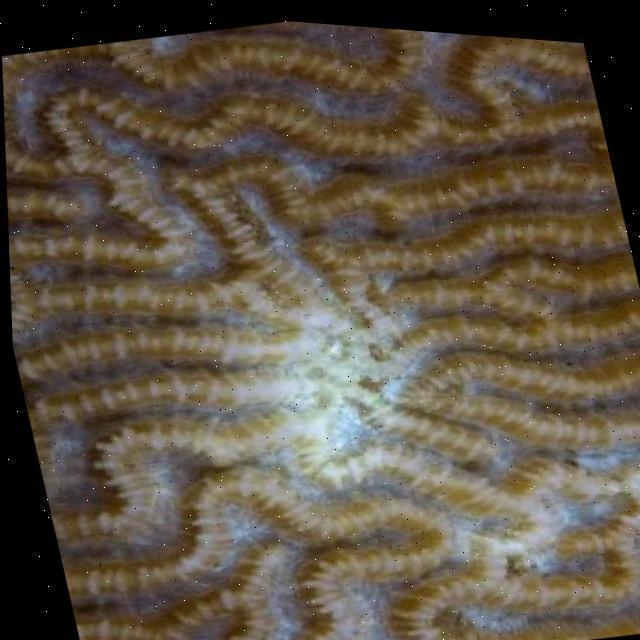Bleached Coral: (163, 369, 640, 640), (164, 190, 500, 511)
